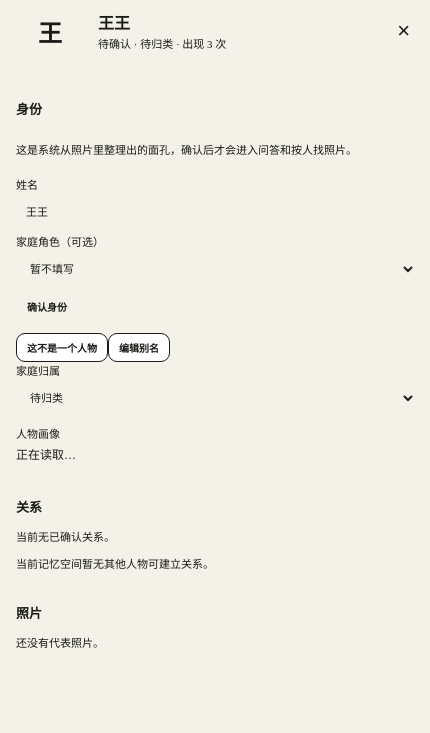
Test: PersonDetail 待确认人物 › 确认失败的回执显示出来，不当成成功
The width and height of the screenshot is (430, 733).
Step 1. Click the button "确认身份" → click(47, 306), box [16,292,78,321]
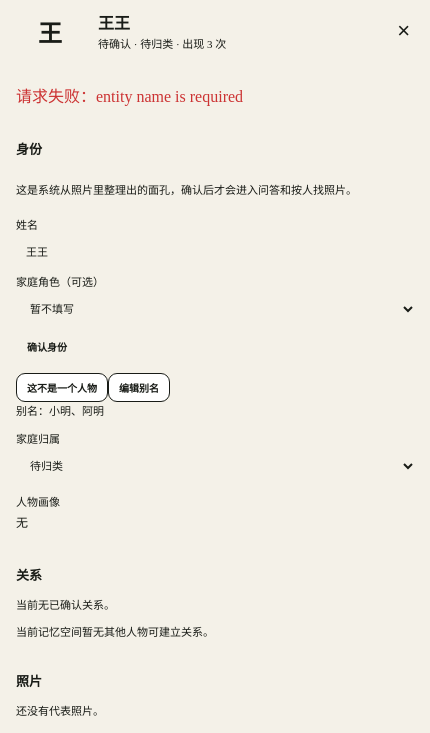
Check: the message shows "entity name is required", box [16,88,243,105]
